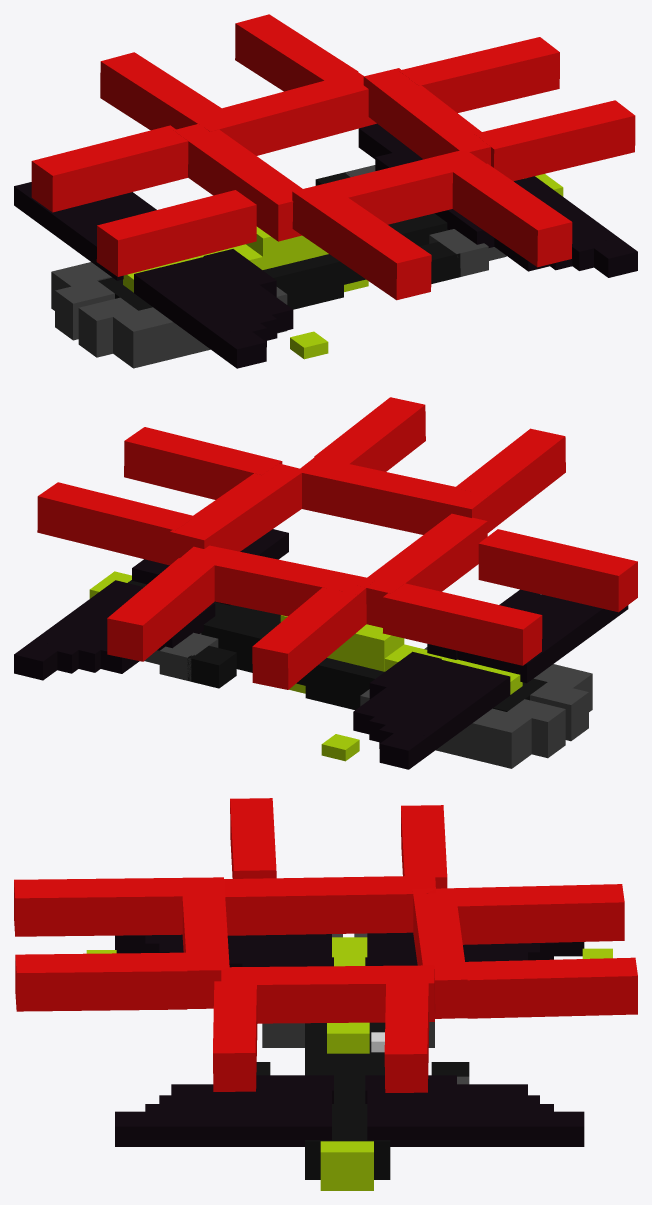
Rendered from Monster2.fbx.
3 renders of one model, top to bottom at view 1: azimuth 30°, elevation 25°; view 2: azimuth 150°, elevation 25°; view 3: azimuth 270°, elevation 25°, orthographic. The views are drawn at different scales.
Visible parts, largest first — view 1: Box169, Box171, Box077, Box168, Box024, Box166, Box025, Box023, Box170, Box167, Box078, Box076 (+34 smaller); view 2: Box024, Box169, Box171, Box166, Box077, Box168, Box167, Box076, Box078, Box170, Box023, Box025 (+38 smaller); view 3: Box170, Box025, Box076, Box023, Box078, Box167, Box077, Box024, Box166, Box168, Box169, Box171 (+33 smaller).
Boxes of the visible parts, bbox=[...] form: Box169: bbox=[96, 190, 256, 276]; Box171: bbox=[31, 125, 188, 212]; Box077: bbox=[188, 72, 376, 155]; Box168: bbox=[474, 100, 635, 181]; Box024: bbox=[292, 150, 485, 242]; Box166: bbox=[399, 37, 559, 112]; Box025: bbox=[452, 163, 572, 267]; Box023: bbox=[312, 196, 431, 300]; Box170: bbox=[173, 121, 302, 241]; Box167: bbox=[363, 68, 490, 165]; Box078: bbox=[100, 52, 221, 130]; Box076: bbox=[235, 14, 358, 91]; Box024: bbox=[300, 457, 489, 534]; Box169: bbox=[478, 529, 637, 612]; Box171: bbox=[383, 583, 542, 665]; Box166: bbox=[37, 482, 195, 565]; Box077: bbox=[180, 545, 375, 630]; Box168: bbox=[124, 427, 282, 499]; Box167: bbox=[169, 463, 302, 565]; Box076: bbox=[107, 558, 214, 661]; Box078: bbox=[252, 587, 359, 689]; Box170: bbox=[357, 513, 487, 627]; Box023: bbox=[455, 428, 565, 531]; Box025: bbox=[314, 397, 425, 471]; Box170: bbox=[224, 875, 435, 935]; Box025: bbox=[15, 952, 187, 1011]; Box076: bbox=[465, 957, 637, 1018]; Box023: bbox=[14, 877, 185, 936]; Box078: bbox=[455, 884, 624, 944]; Box167: bbox=[221, 965, 435, 1023]; Box077: bbox=[412, 888, 467, 1018]; Box024: bbox=[182, 877, 229, 1008]; Box166: bbox=[384, 982, 429, 1092]; Box168: bbox=[213, 981, 257, 1091]; Box169: bbox=[230, 798, 276, 878]; Box171: bbox=[401, 805, 447, 888].
Bounding box in the file's own units: 147 × 43.82 × 146.
